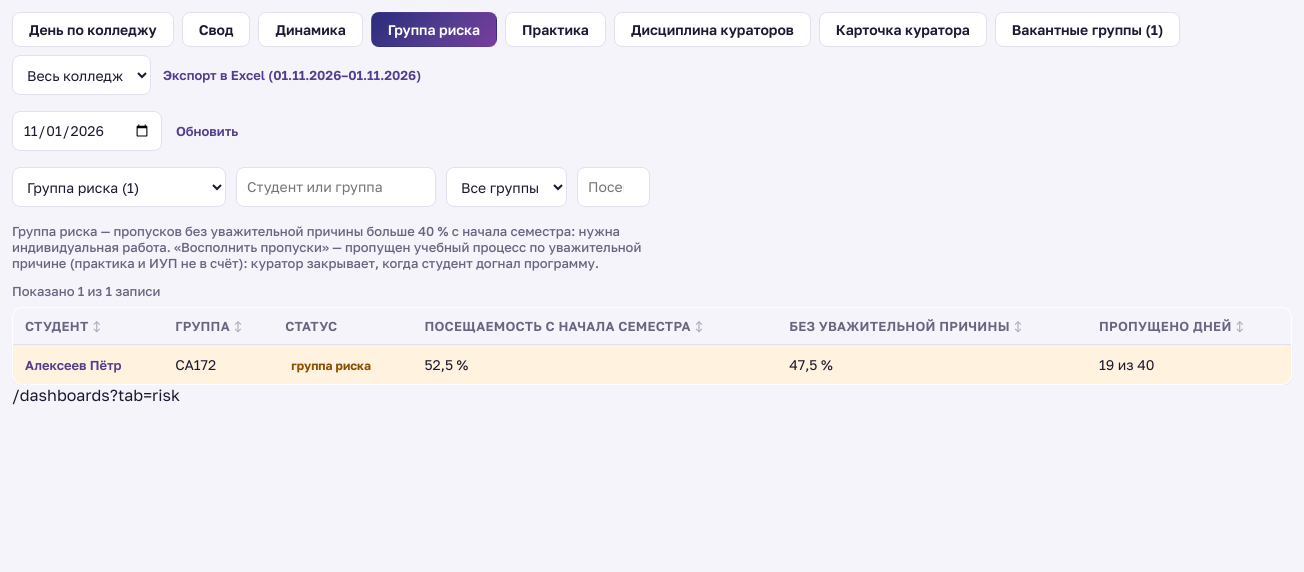
Test: DashboardsPage — вкладки по ролям › вкладка из адреса открывается сразу, адрес следует за переключением
Expected: the link "Алексеев Пётр" is shown, left=21, top=355, right=126, bottom=375
What coordinates should you click on to do the following:
click the button "Динамика"
I would click on:
 (311, 30)
Its box is left=258, top=12, right=363, bottom=47.
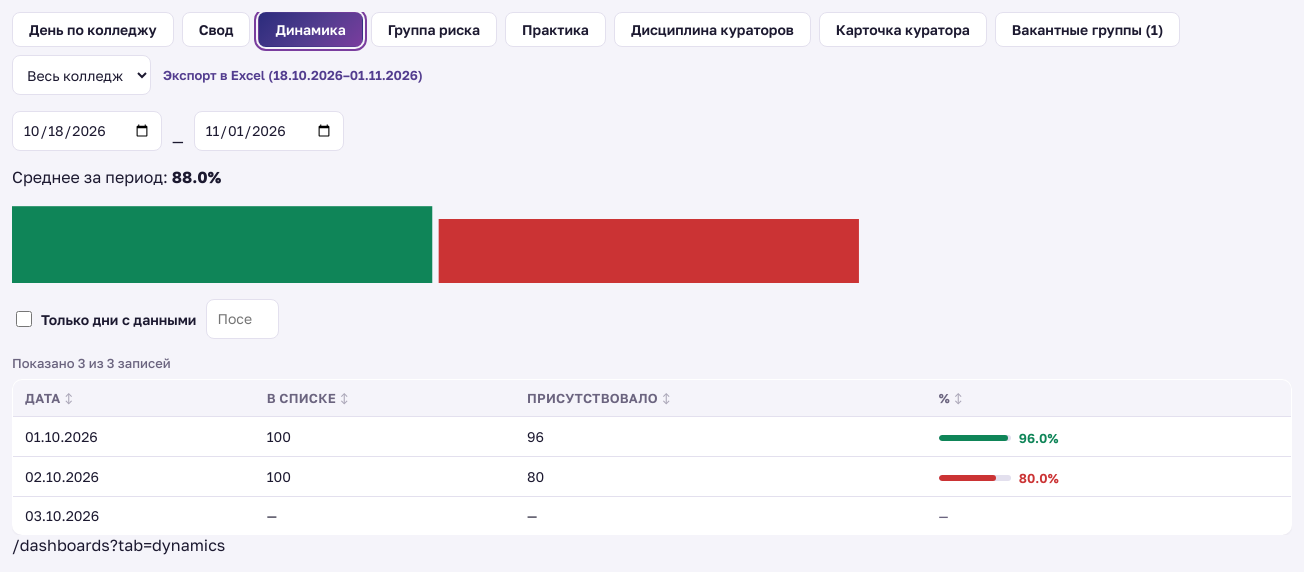
Result: the text with test id "where" reads "/dashboards?tab=dynamics" at left=12, top=535, right=225, bottom=555
